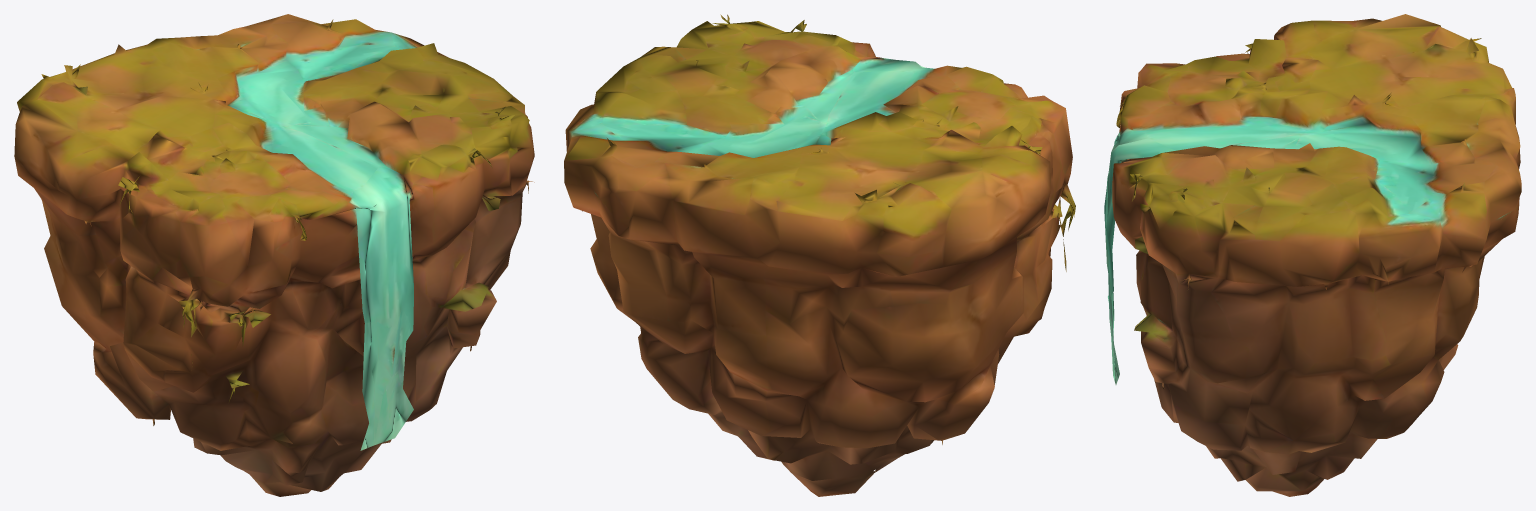
The model's file is cliff-waterfall.glb.
3 renders of one model, left to right at view 1: azimuth 30°, elevation 25°; view 2: azimuth 150°, elevation 25°; view 3: azimuth 270°, elevation 25°, orthographic. The views are drawn at different scales.
Visible parts, largest first — view 1: tripo_node_3a049ba7-7039-426d-a514-0c1a4bddb2f5; view 2: tripo_node_3a049ba7-7039-426d-a514-0c1a4bddb2f5; view 3: tripo_node_3a049ba7-7039-426d-a514-0c1a4bddb2f5.
Boxes of the visible parts, <box> form: tripo_node_3a049ba7-7039-426d-a514-0c1a4bddb2f5: <box>14,14,534,496</box>; tripo_node_3a049ba7-7039-426d-a514-0c1a4bddb2f5: <box>564,14,1075,496</box>; tripo_node_3a049ba7-7039-426d-a514-0c1a4bddb2f5: <box>1104,14,1521,496</box>.
Size of the model in its own units: 0.9777 by 0.8544 by 0.8355.
Materials: 1 (1 with a texture image).
